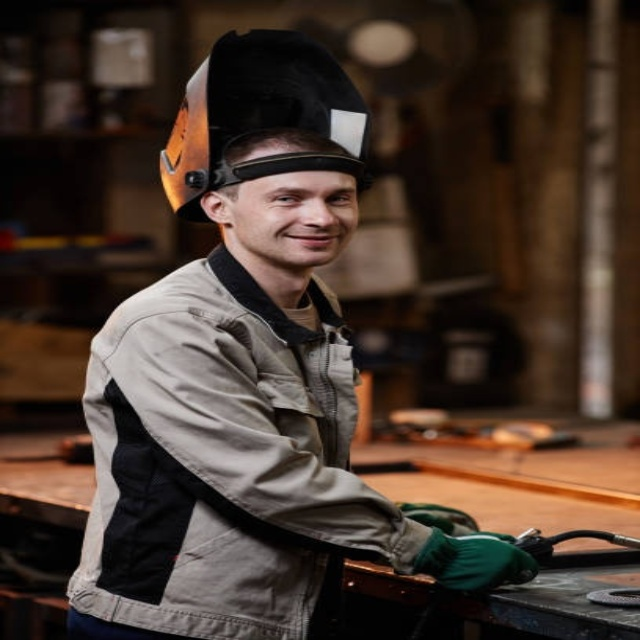Guantes: (406, 524, 538, 593), (398, 502, 480, 536)
Sin_gafas: (254, 180, 359, 214)
Sin_mascara: (270, 227, 344, 259)
